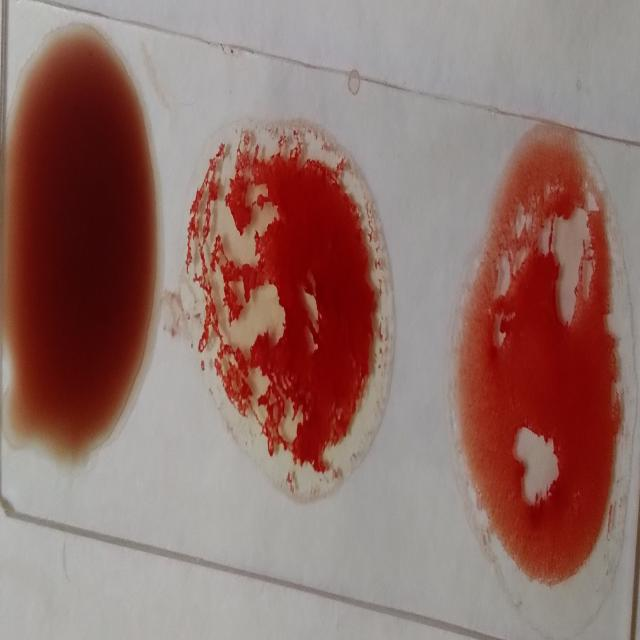B: (189, 111, 393, 503)
D: (451, 123, 637, 612)
